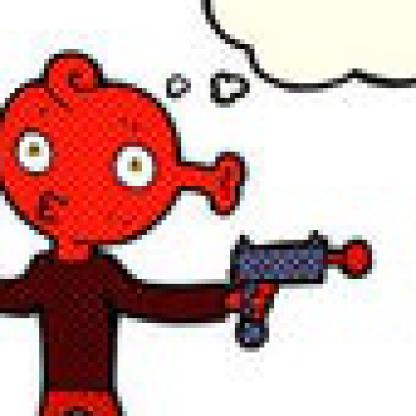gun: (230, 230, 343, 348)
